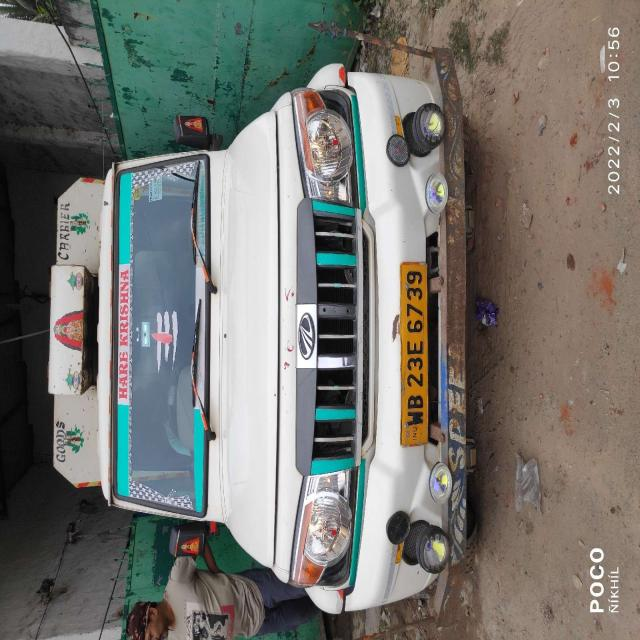light_vehicle: (54, 63, 463, 582)
